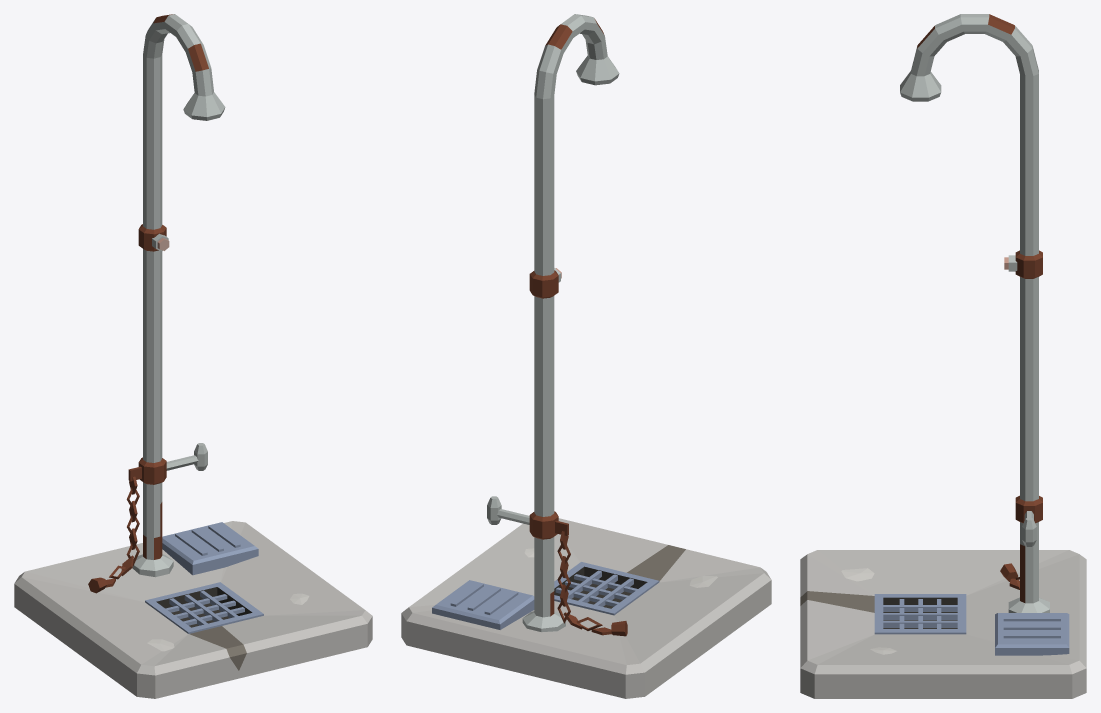
The model's file is beach-shower-post-719ac6.glb.
3 renders of one model, left to right at view 1: azimuth 30°, elevation 25°; view 2: azimuth 150°, elevation 25°; view 3: azimuth 270°, elevation 25°, orthographic. The views are drawn at different scales.
Visible parts, largest first — view 1: shower-post-body; view 2: shower-post-body; view 3: shower-post-body.
Boxes of the visible parts, box(x1,y1,x2,y2) form: shower-post-body: box(14, 14, 372, 698); shower-post-body: box(401, 14, 771, 698); shower-post-body: box(800, 14, 1086, 698).
Size of the model in its own units: 1 by 2.4 by 1.
